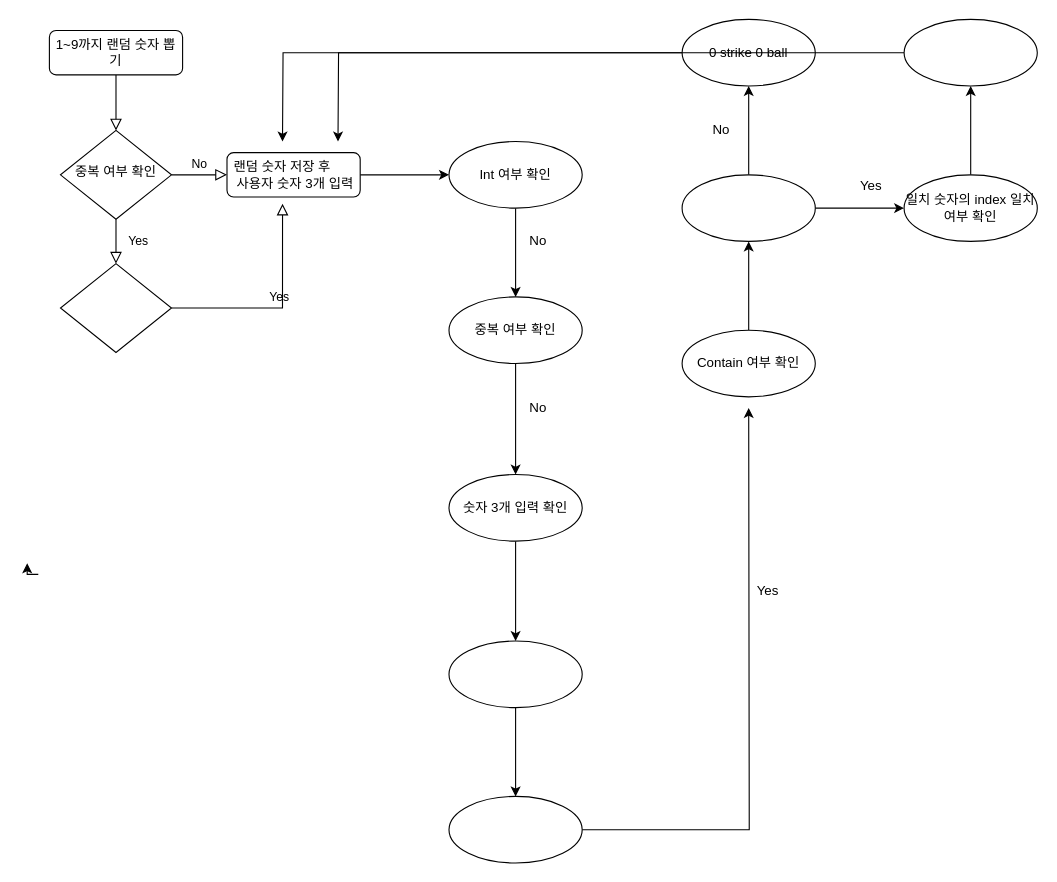
Image size: 1057x882. Some labels were removed from this diagram. Here are the shapes that lost their labels. From the top down, the centre of each, then its label:
At pixel 970 52: "X strike Y ball".
At pixel 748 207: "랜덤 숫자와 입력 숫자 contain 여부 확인".
At pixel 115 307: "다시 생성".
At pixel 515 674: "띄어쓰기 확인".
At pixel 515 829: "1~9까지 숫자인지 확인".
